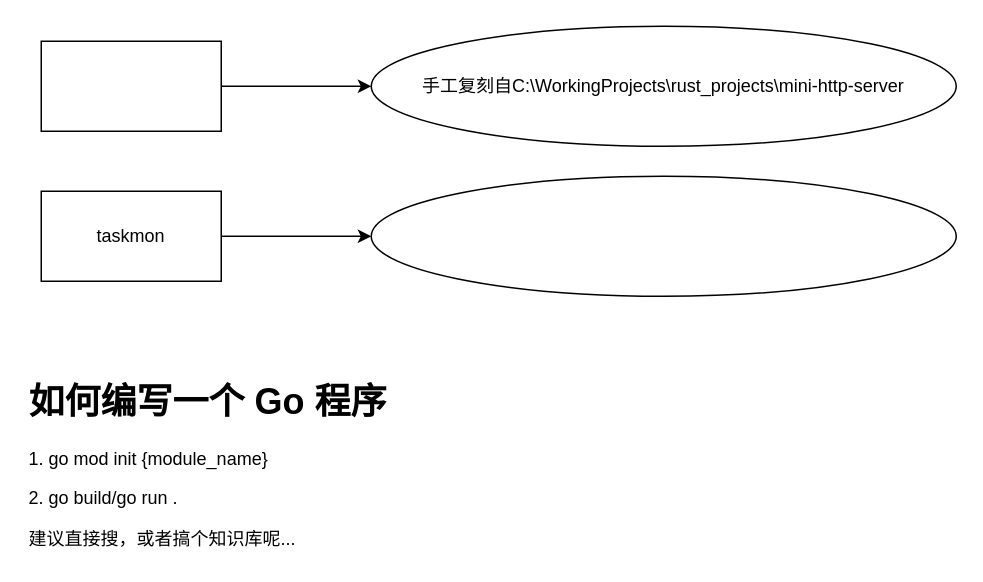
Image size: 983x582. Some labels were removed from this diagram. Here are the shapes that lost their labels. From the top down, the centre of each, then its label:
At point (130, 85): "mini-http-server".
At point (663, 235): "手工复刻自 C:\WorkingProjects\typescript_projects\taskmon".
